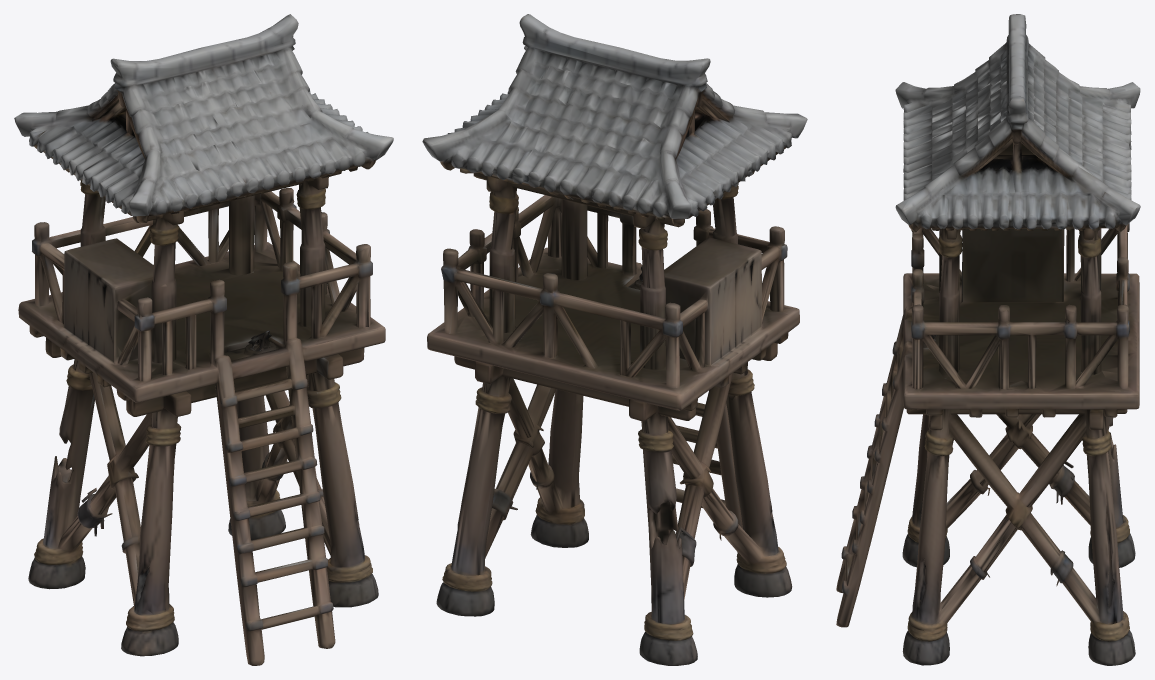
File: watchtower-hy3-v1.glb
3 renders of one model, left to right at view 1: azimuth 30°, elevation 25°; view 2: azimuth 150°, elevation 25°; view 3: azimuth 270°, elevation 25°, orthographic.
Parts seen in each view (by area): view 1: node_0; view 2: node_0; view 3: node_0.
Boxes of the visible parts, x1=… form: node_0: x1=14, y1=14, x2=393, y2=665; node_0: x1=422, y1=14, x2=807, y2=665; node_0: x1=836, y1=14, x2=1140, y2=665.
Bounding box in the file's own units: 3 × 6 × 3.
1 material, 1 textured.
